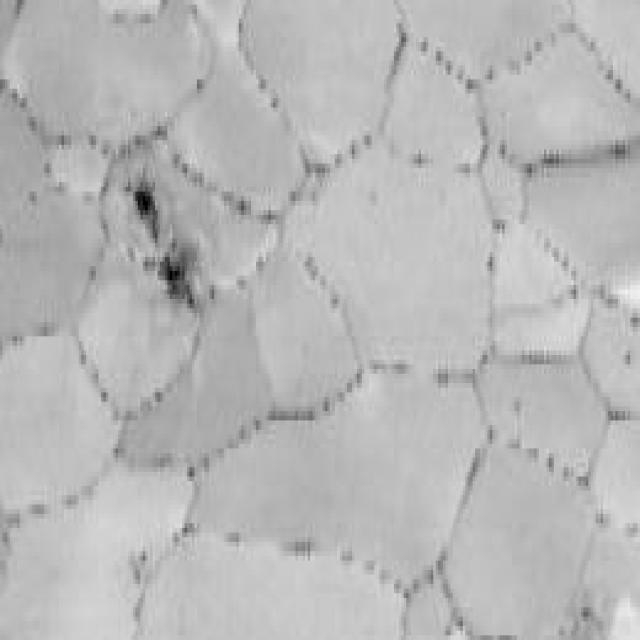good_void: (156, 238, 201, 311), (125, 170, 164, 248)
